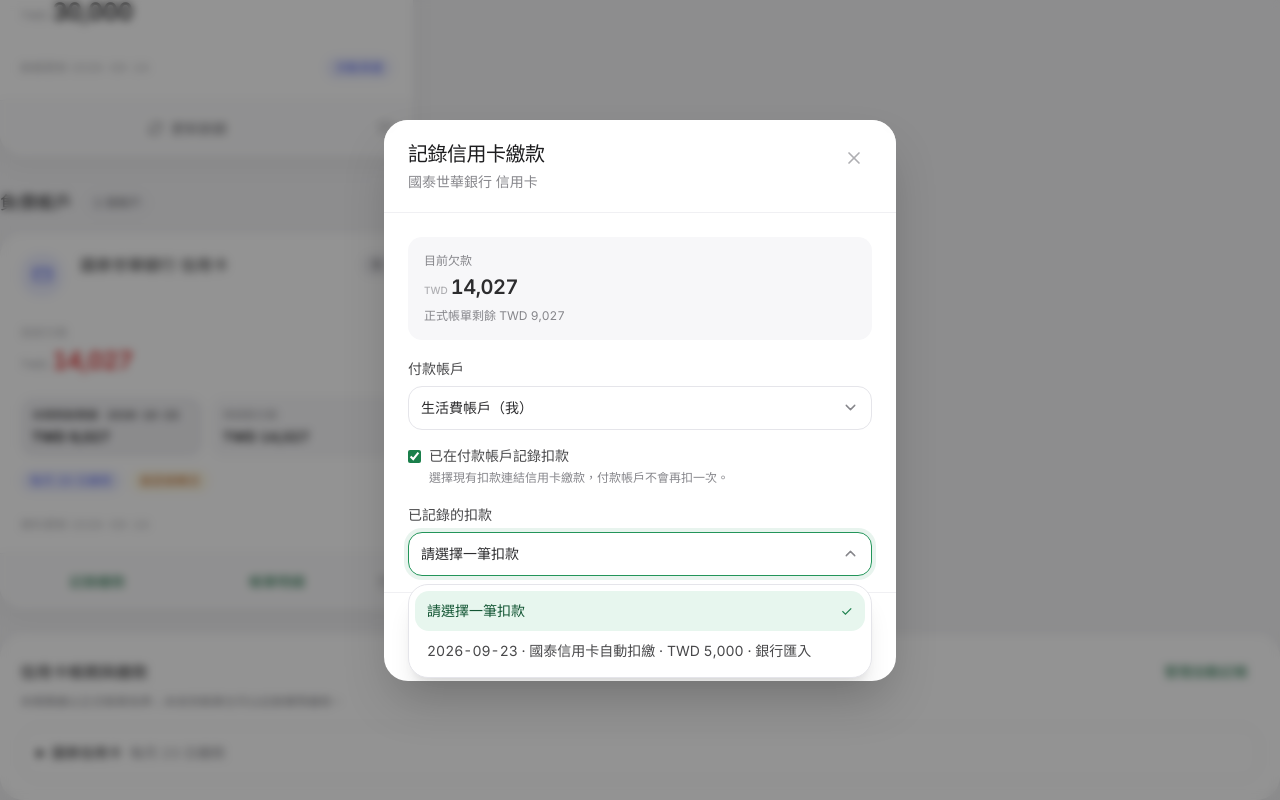
only assigns an existing debit to the current bill when explicitly selected
Earlier steps of the test are not shown.
Later steps or results of the test are not shown.
(page scrolled)
Click the option "2026-09-23 · 國泰信用卡自動扣繳 · TWD 5,000 · 銀行匯入" at point(640, 650), box left=415, top=630, right=865, bottom=670
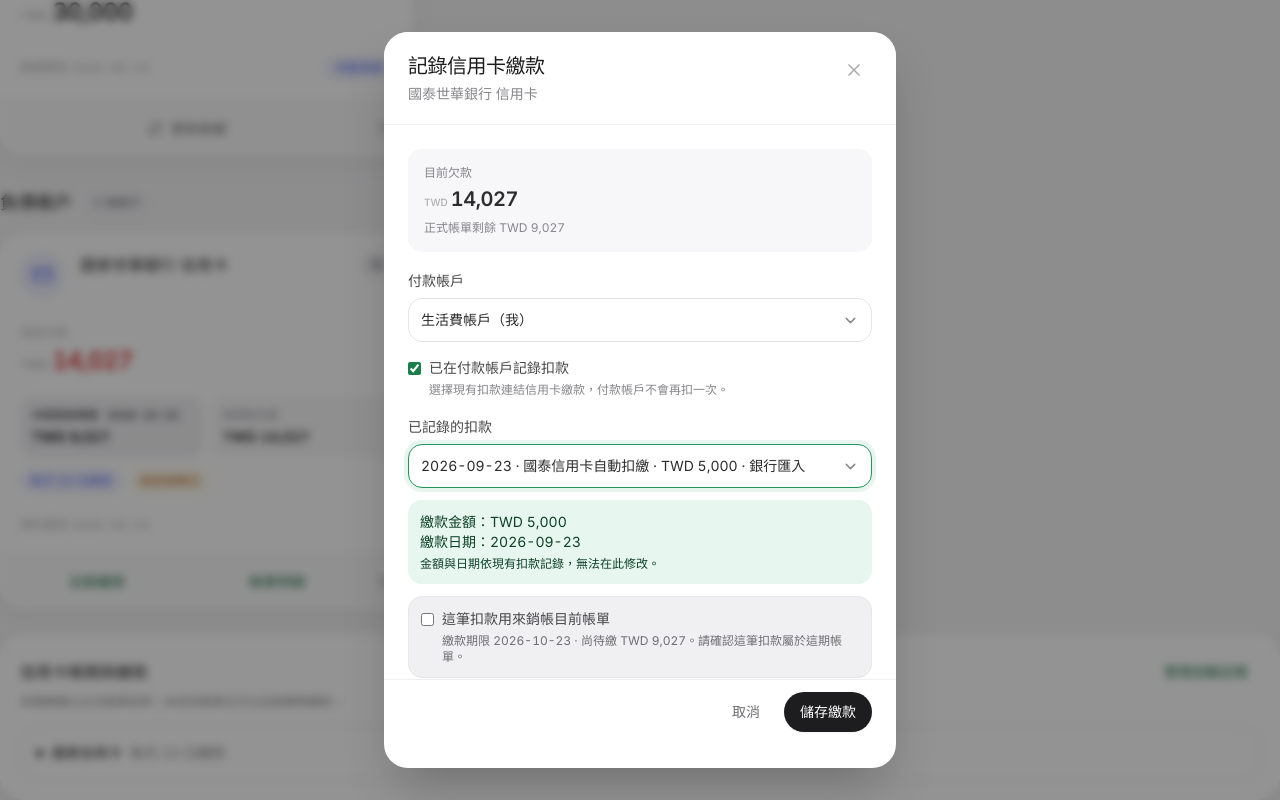
Now the checkbox labelled "這筆扣款用來銷帳目前帳單 繳款期限 2026-10-23 · 尚待繳 TWD 9,027。請確認這筆扣款屬於這期帳單。" is not checked
Click the checkbox labelled "這筆扣款用來銷帳目前帳單 繳款期限 2026-10-23 · 尚待繳 TWD 9,027。請確認這筆扣款屬於這期帳單。" at point(428, 620), box left=421, top=613, right=434, bottom=626
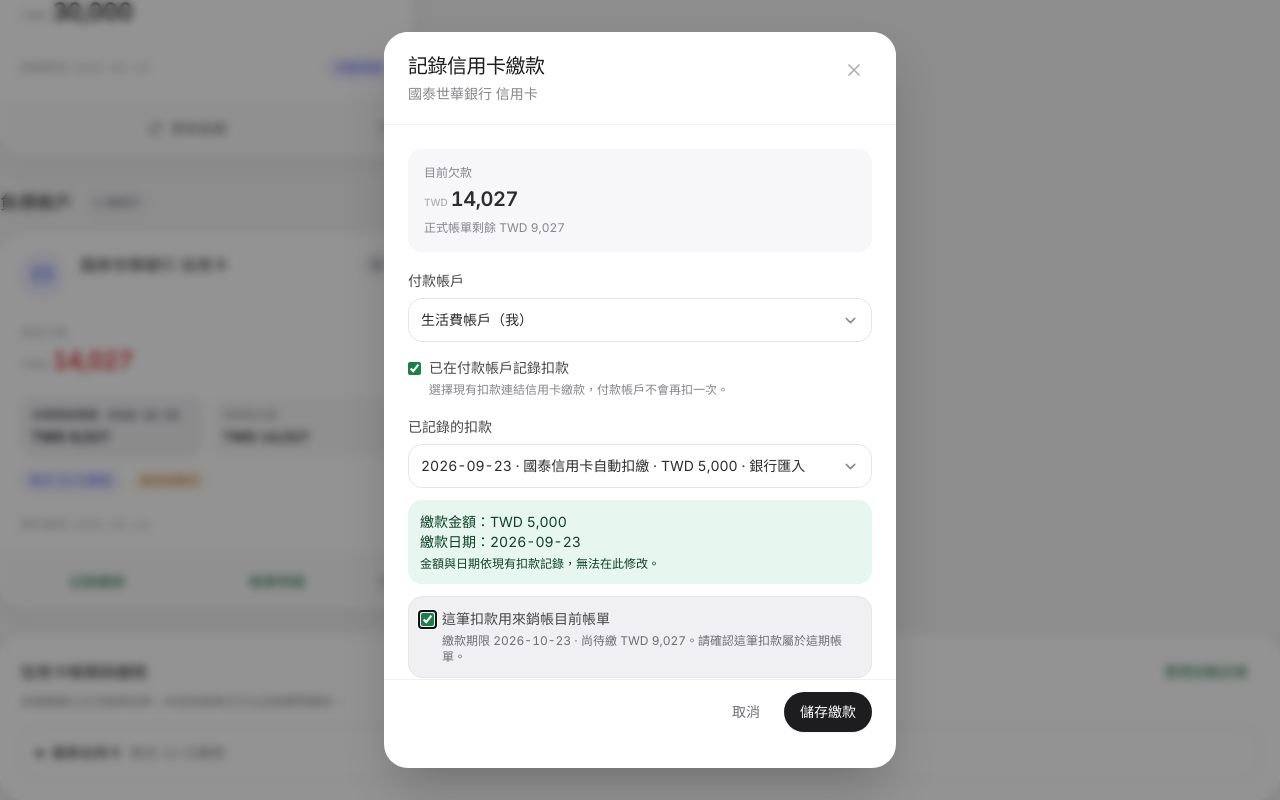
Now the checkbox labelled "這筆扣款用來銷帳目前帳單 繳款期限 2026-10-23 · 尚待繳 TWD 9,027。請確認這筆扣款屬於這期帳單。" is checked, box left=421, top=613, right=434, bottom=626
Click the button with aria-label "已記錄的扣款" at point(640, 466), box left=408, top=444, right=872, bottom=488
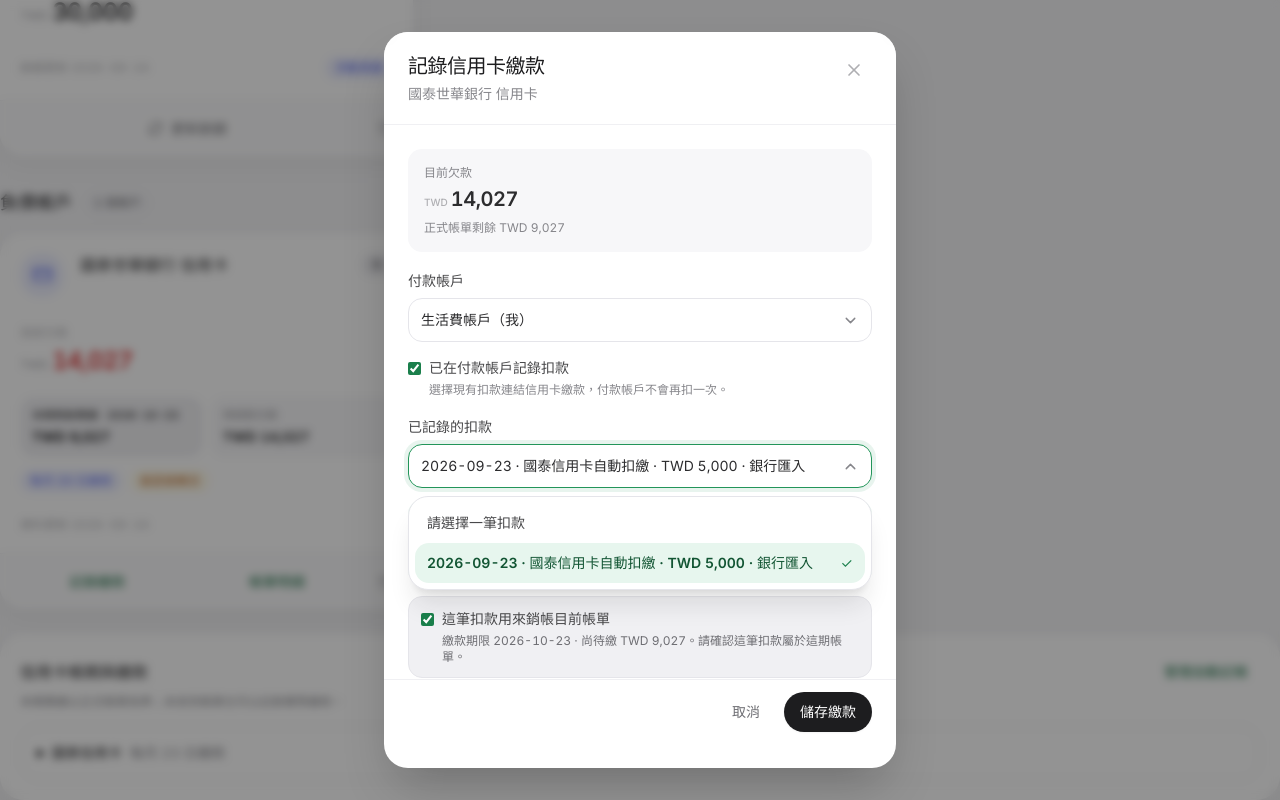
Click the option "請選擇一筆扣款" at point(476, 522), box left=415, top=503, right=865, bottom=543
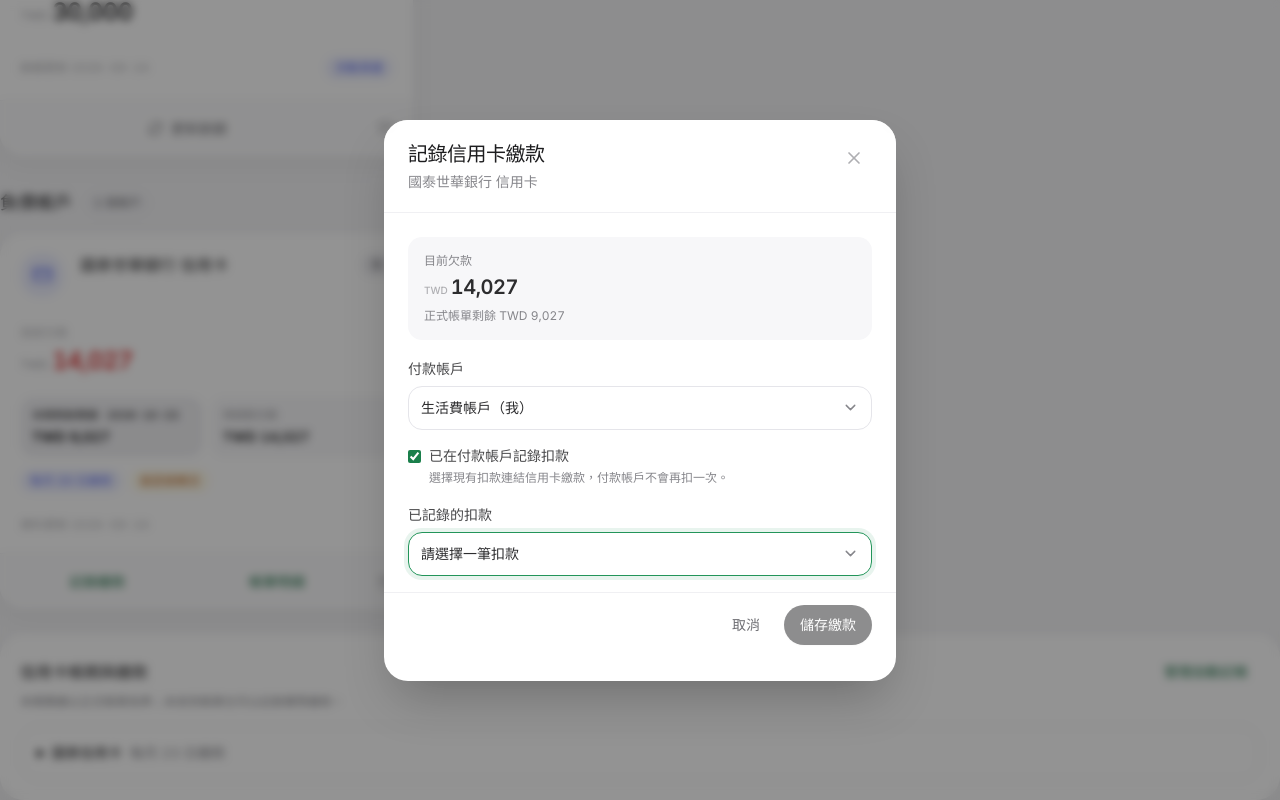
Now the checkbox labelled "這筆扣款用來銷帳目前帳單" is gone
Click the button with aria-label "已記錄的扣款" at point(470, 553), box left=408, top=532, right=872, bottom=576
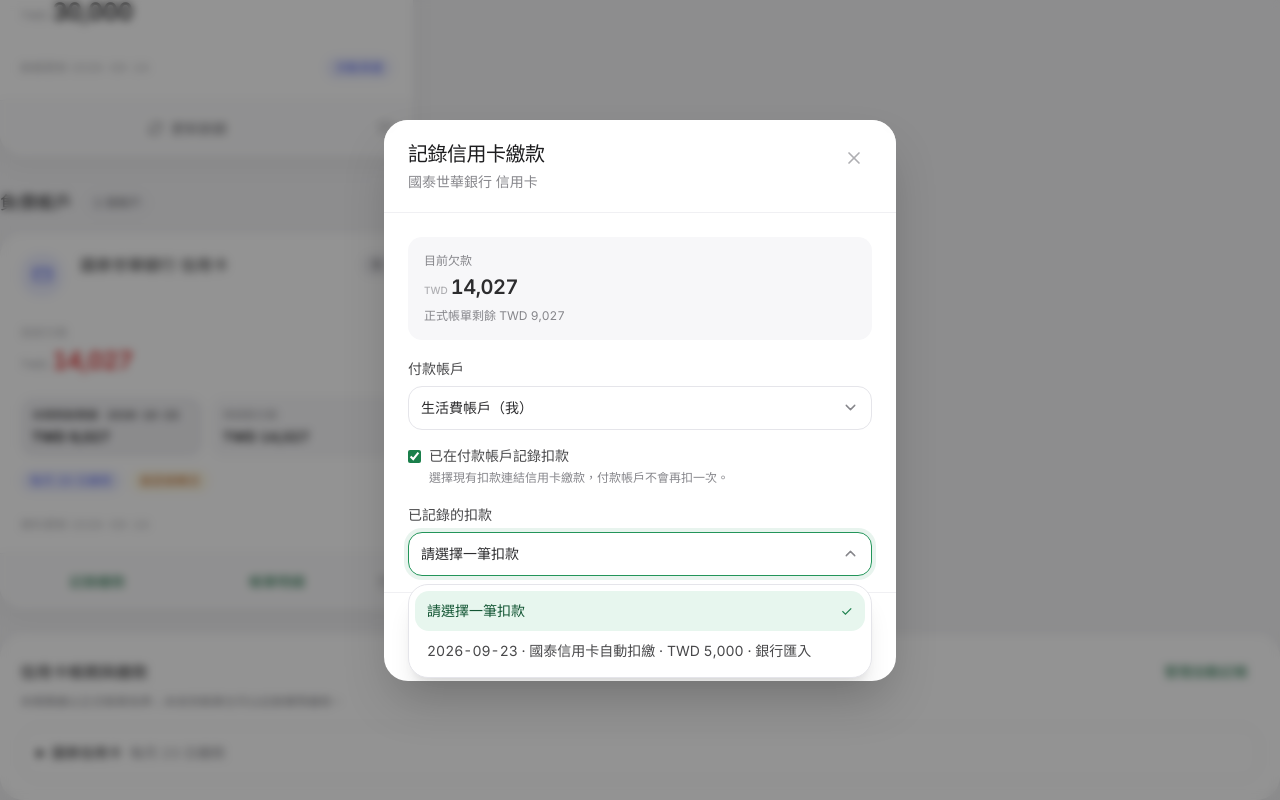
Click the option "2026-09-23 · 國泰信用卡自動扣繳 · TWD 5,000 · 銀行匯入" at point(640, 650), box left=415, top=630, right=865, bottom=670
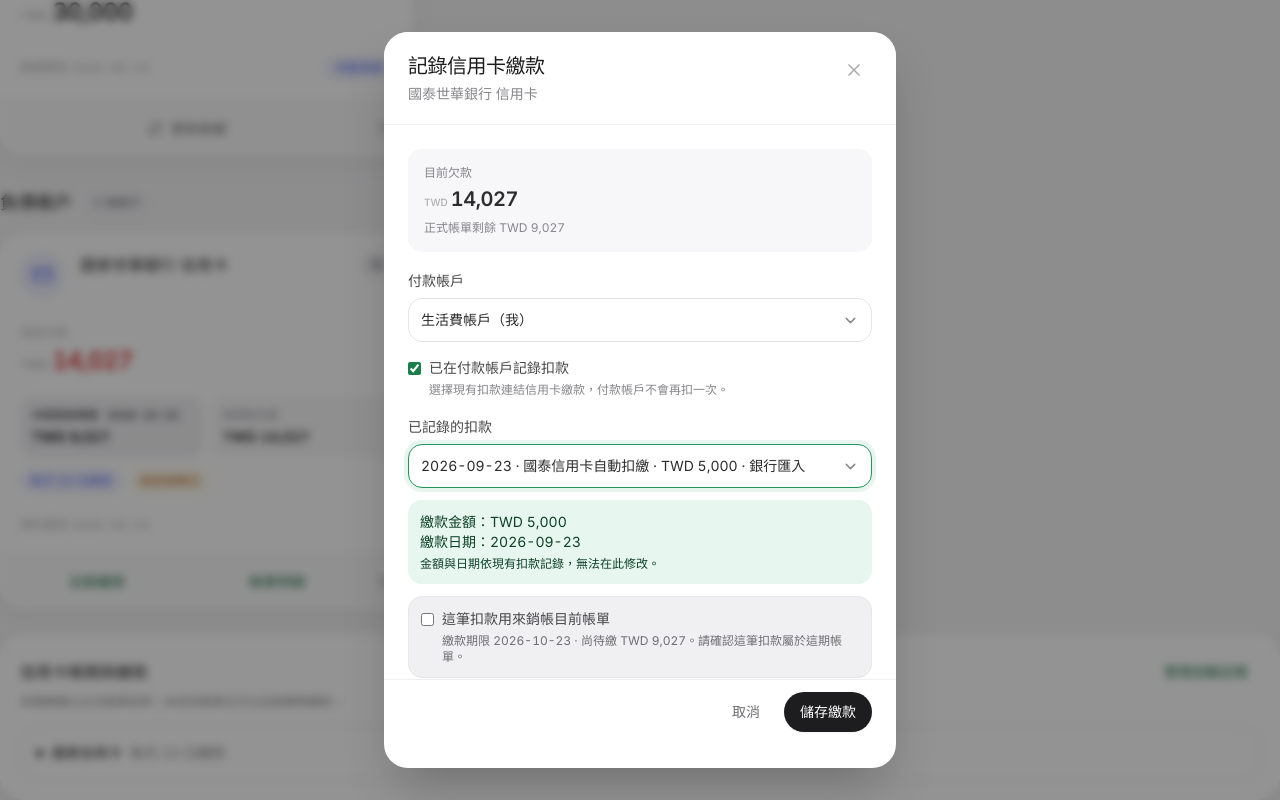
Now the checkbox labelled "這筆扣款用來銷帳目前帳單 繳款期限 2026-10-23 · 尚待繳 TWD 9,027。請確認這筆扣款屬於這期帳單。" is not checked, box left=421, top=613, right=434, bottom=626
